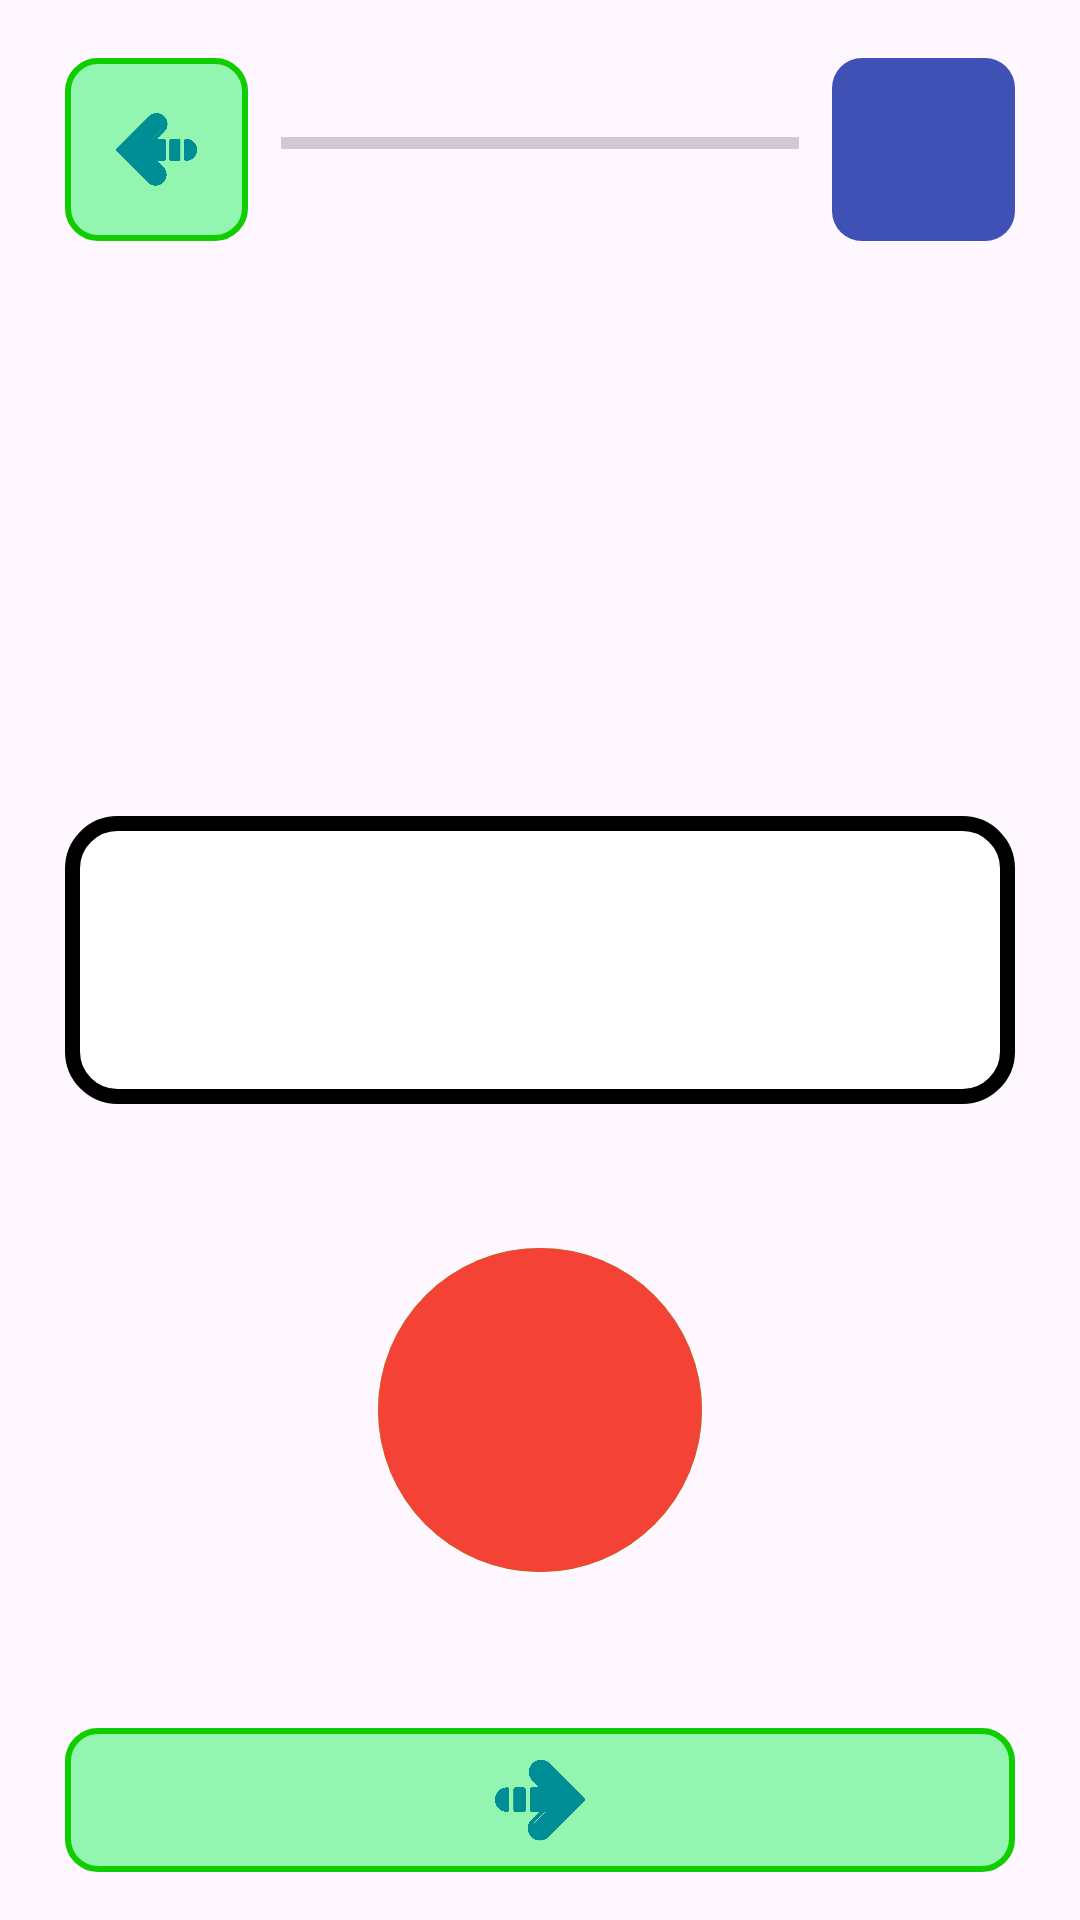

Icons on this 1080px x 1920px Android screen, each with the point to tap as (x,y):
backward: (156,149)
forward: (540,1800)
